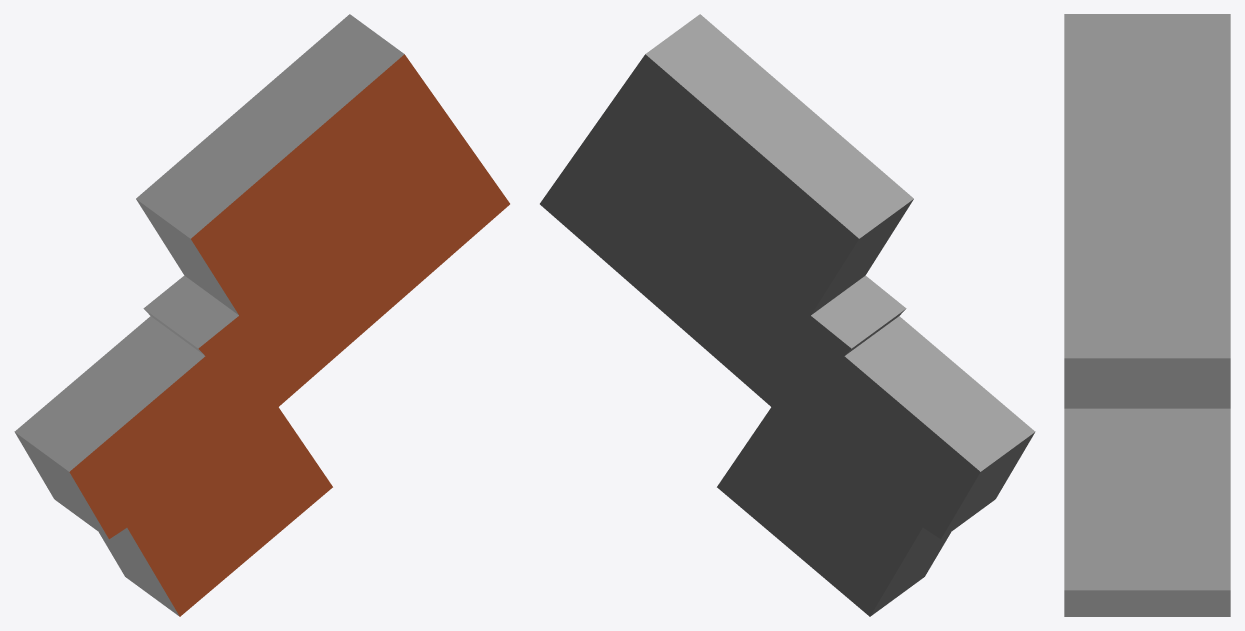
Rendered from construction_4615_assumed_A_Casa_h6m.obj.
3 views of the same model, side by side, from view 1: azimuth 30°, elevation 25°; view 2: azimuth 150°, elevation 25°; view 3: azimuth 270°, elevation 25° (orthographic). The views are drawn at different scales.
Parts seen in each view (by area): view 1: construction_4615_assumed_A_Casa; view 2: construction_4615_assumed_A_Casa; view 3: construction_4615_assumed_A_Casa.
Part boxes in pixels (x1,y1,x2,y2): construction_4615_assumed_A_Casa: [14, 14, 509, 616]; construction_4615_assumed_A_Casa: [540, 14, 1035, 616]; construction_4615_assumed_A_Casa: [1064, 14, 1230, 616].
Size of the model in its own units: 27.85 by 30.64 by 6.
